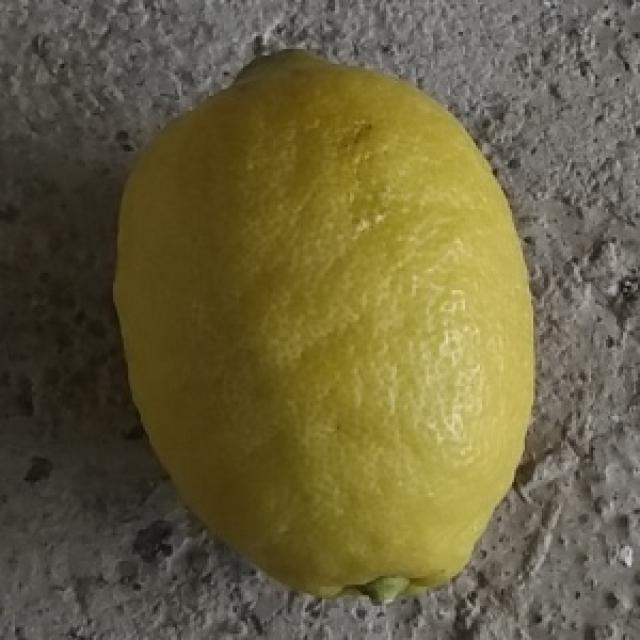Ripe: (102, 43, 542, 612)
